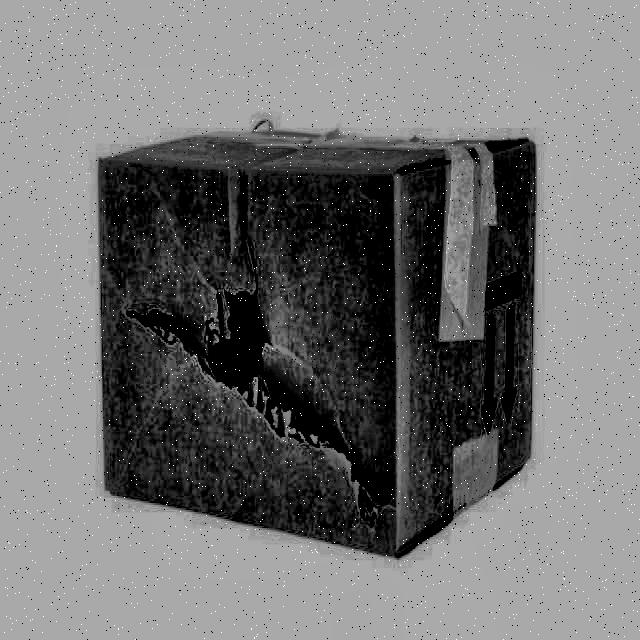box: (80, 114, 559, 566)
hole: (120, 282, 386, 526)
